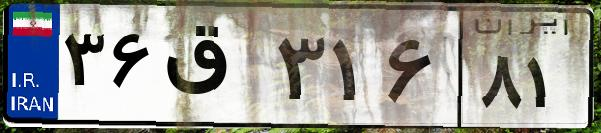1: (330, 28, 385, 110), (525, 38, 570, 115)
3: (270, 28, 330, 110), (57, 26, 110, 100)
6: (385, 28, 445, 110), (110, 28, 158, 98)
8: (475, 38, 525, 113)
ق: (158, 20, 270, 120)
